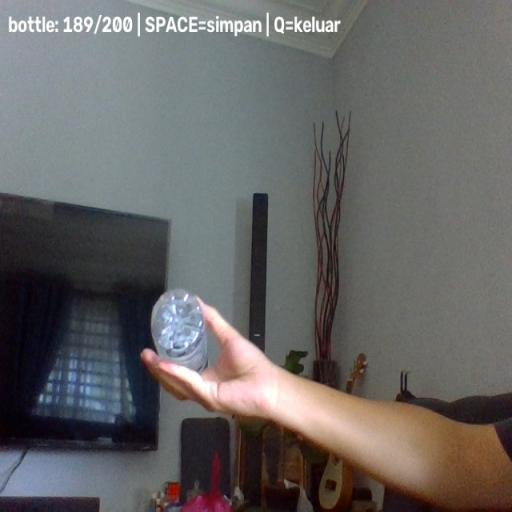Bottle: (150, 288, 210, 374)
